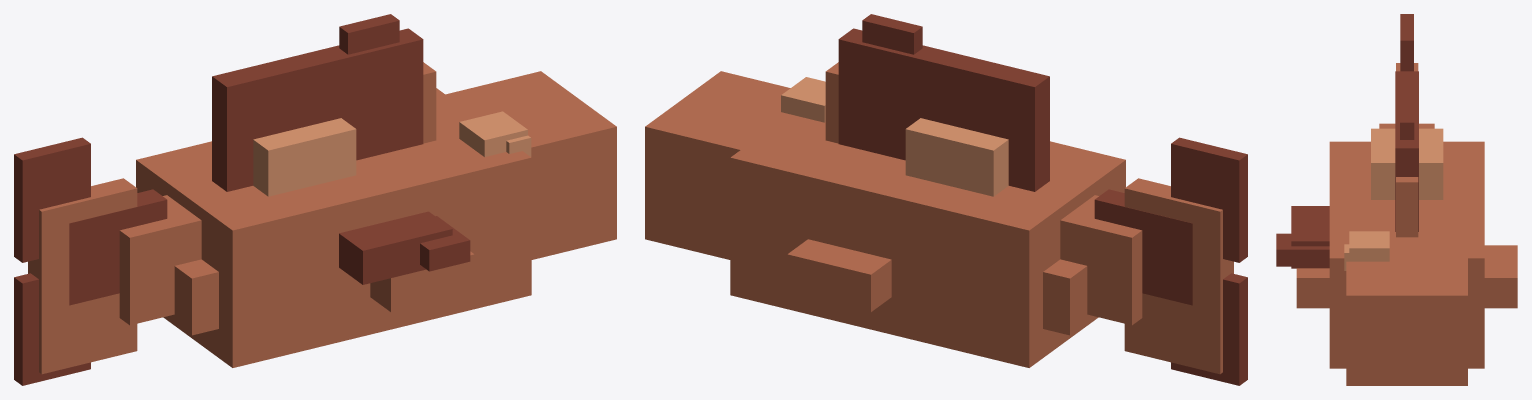
Rendered from fish_kiln_perch.glb.
3 renders of one model, left to right at view 1: azimuth 30°, elevation 25°; view 2: azimuth 150°, elevation 25°; view 3: azimuth 270°, elevation 25°, orthographic. The views are drawn at different scales.
Visible parts, largest first — view 1: FishArt_body, FishArt_dorsal, FishArt_tail, FishArt_pectoral, FishArt_specialty, FishArt_eye; view 2: FishArt_body, FishArt_dorsal, FishArt_tail, FishArt_specialty, FishArt_eye; view 3: FishArt_body, FishArt_specialty, FishArt_pectoral, FishArt_dorsal, FishArt_eye, FishArt_tail.
Boxes of the visible parts, box(x1,y1,x2,y2) form: FishArt_body: box(28, 62, 616, 374); FishArt_dorsal: box(212, 14, 423, 191); FishArt_tail: box(14, 137, 167, 385); FishArt_pectoral: box(339, 211, 470, 284); FishArt_specialty: box(253, 118, 356, 196); FishArt_eye: box(459, 111, 531, 156); FishArt_body: box(645, 62, 1233, 374); FishArt_dorsal: box(838, 14, 1049, 191); FishArt_tail: box(1094, 137, 1247, 385); FishArt_specialty: box(905, 118, 1008, 196); FishArt_eye: box(781, 77, 825, 122); FishArt_body: box(1296, 63, 1517, 385); FishArt_specialty: box(1371, 128, 1443, 199); FishArt_pectoral: box(1276, 206, 1329, 268); FishArt_dorsal: box(1395, 71, 1418, 231); FishArt_eye: box(1344, 231, 1389, 270); FishArt_tail: box(1400, 14, 1413, 71).
Size of the model in its own units: 0.3091 by 0.1442 by 0.1439.
